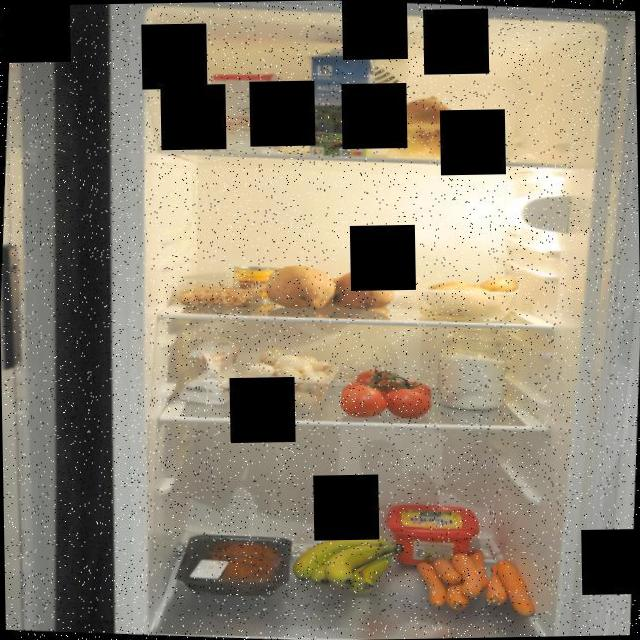Carne vacuno: (172, 530, 294, 600)
Cebolla: (378, 90, 500, 164)
Champiñones: (250, 344, 334, 404)
Gambas/Langostinos: (174, 282, 254, 312)
Leche: (302, 44, 377, 162)
Mantequilla: (382, 498, 484, 572)
Patata: (410, 268, 524, 322)
Plátano: (284, 525, 408, 597)
Tomate: (336, 362, 441, 424)
Zanahoria: (412, 547, 540, 622)
